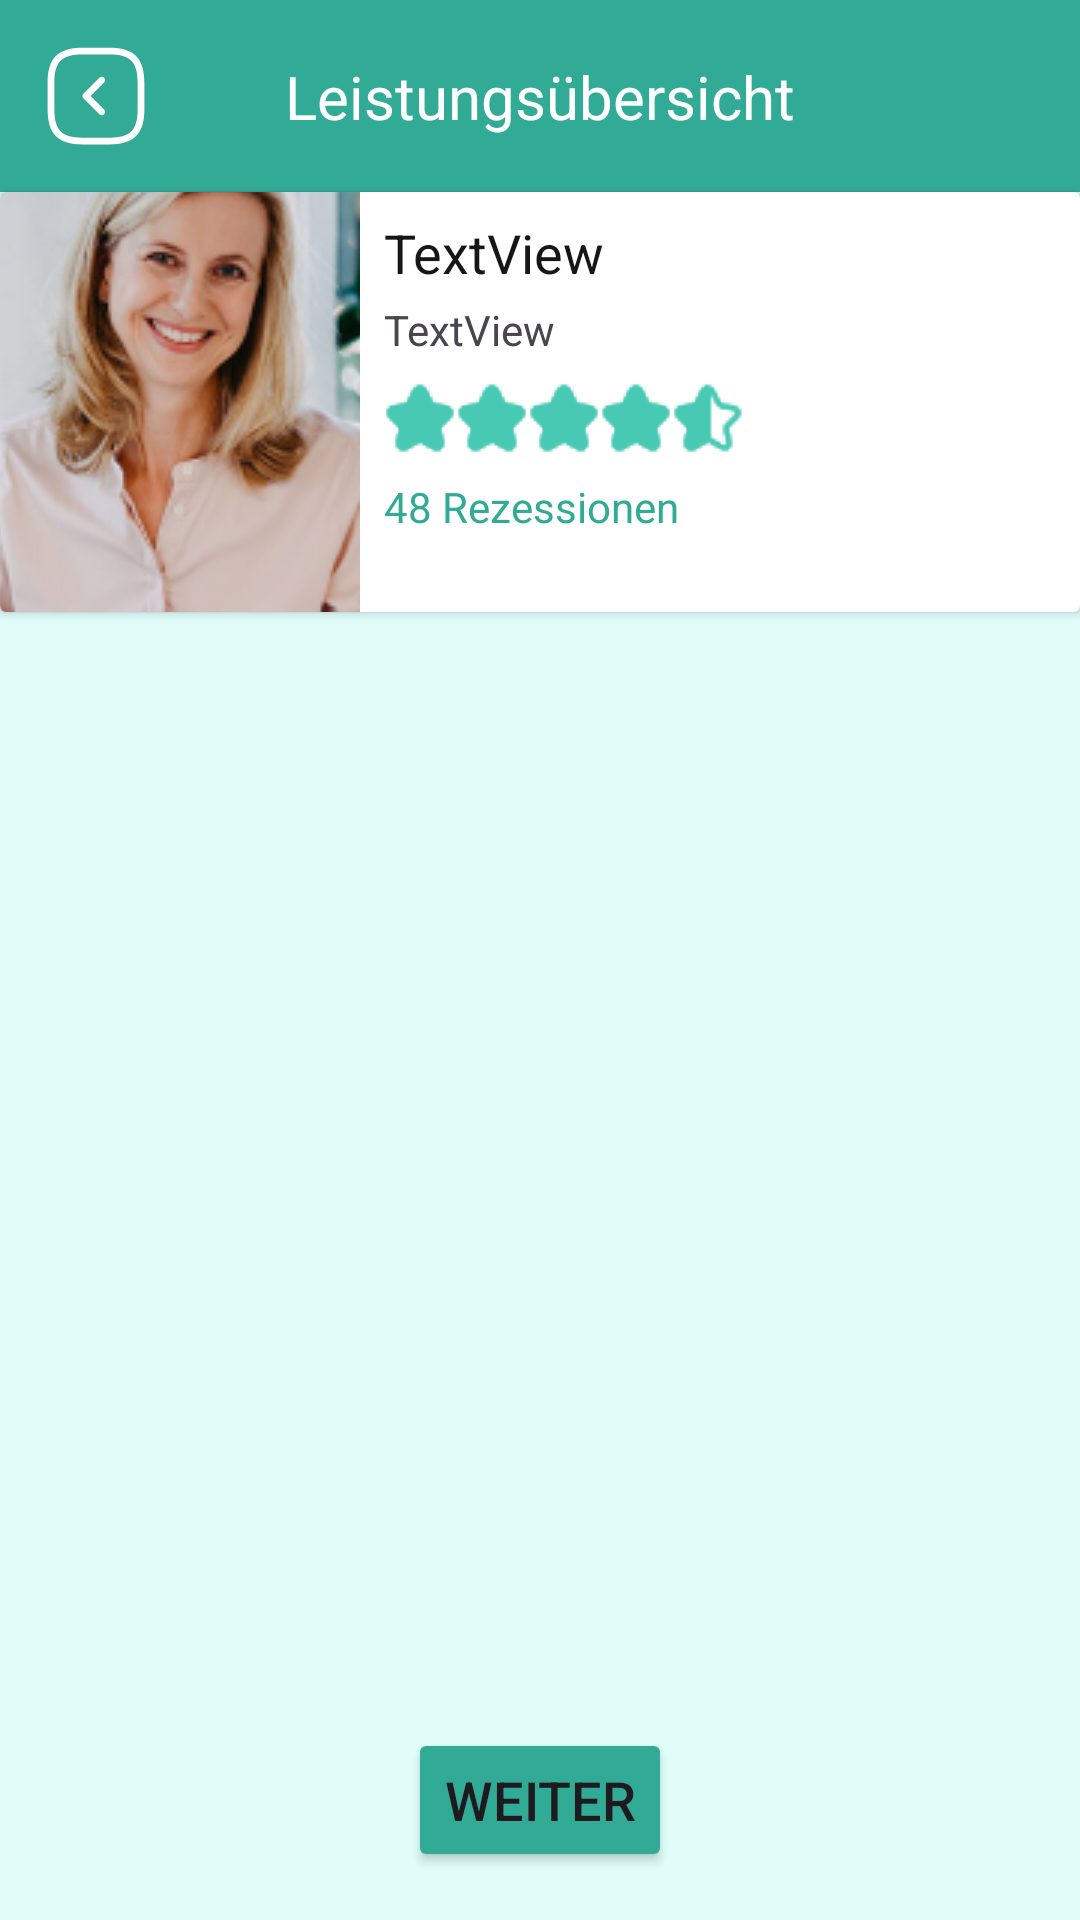

Named icons in this screenshot (1080w x 1920h) and their centers, (x=x, y=y):
arrow square left: (x=96, y=96)
